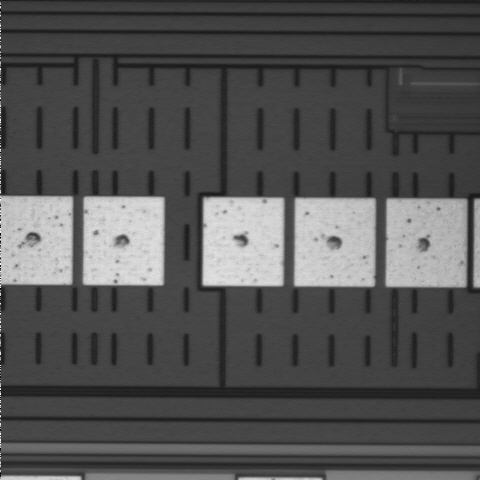pad: (83, 197, 164, 285), (203, 198, 283, 286), (295, 198, 375, 286), (386, 200, 465, 286)
